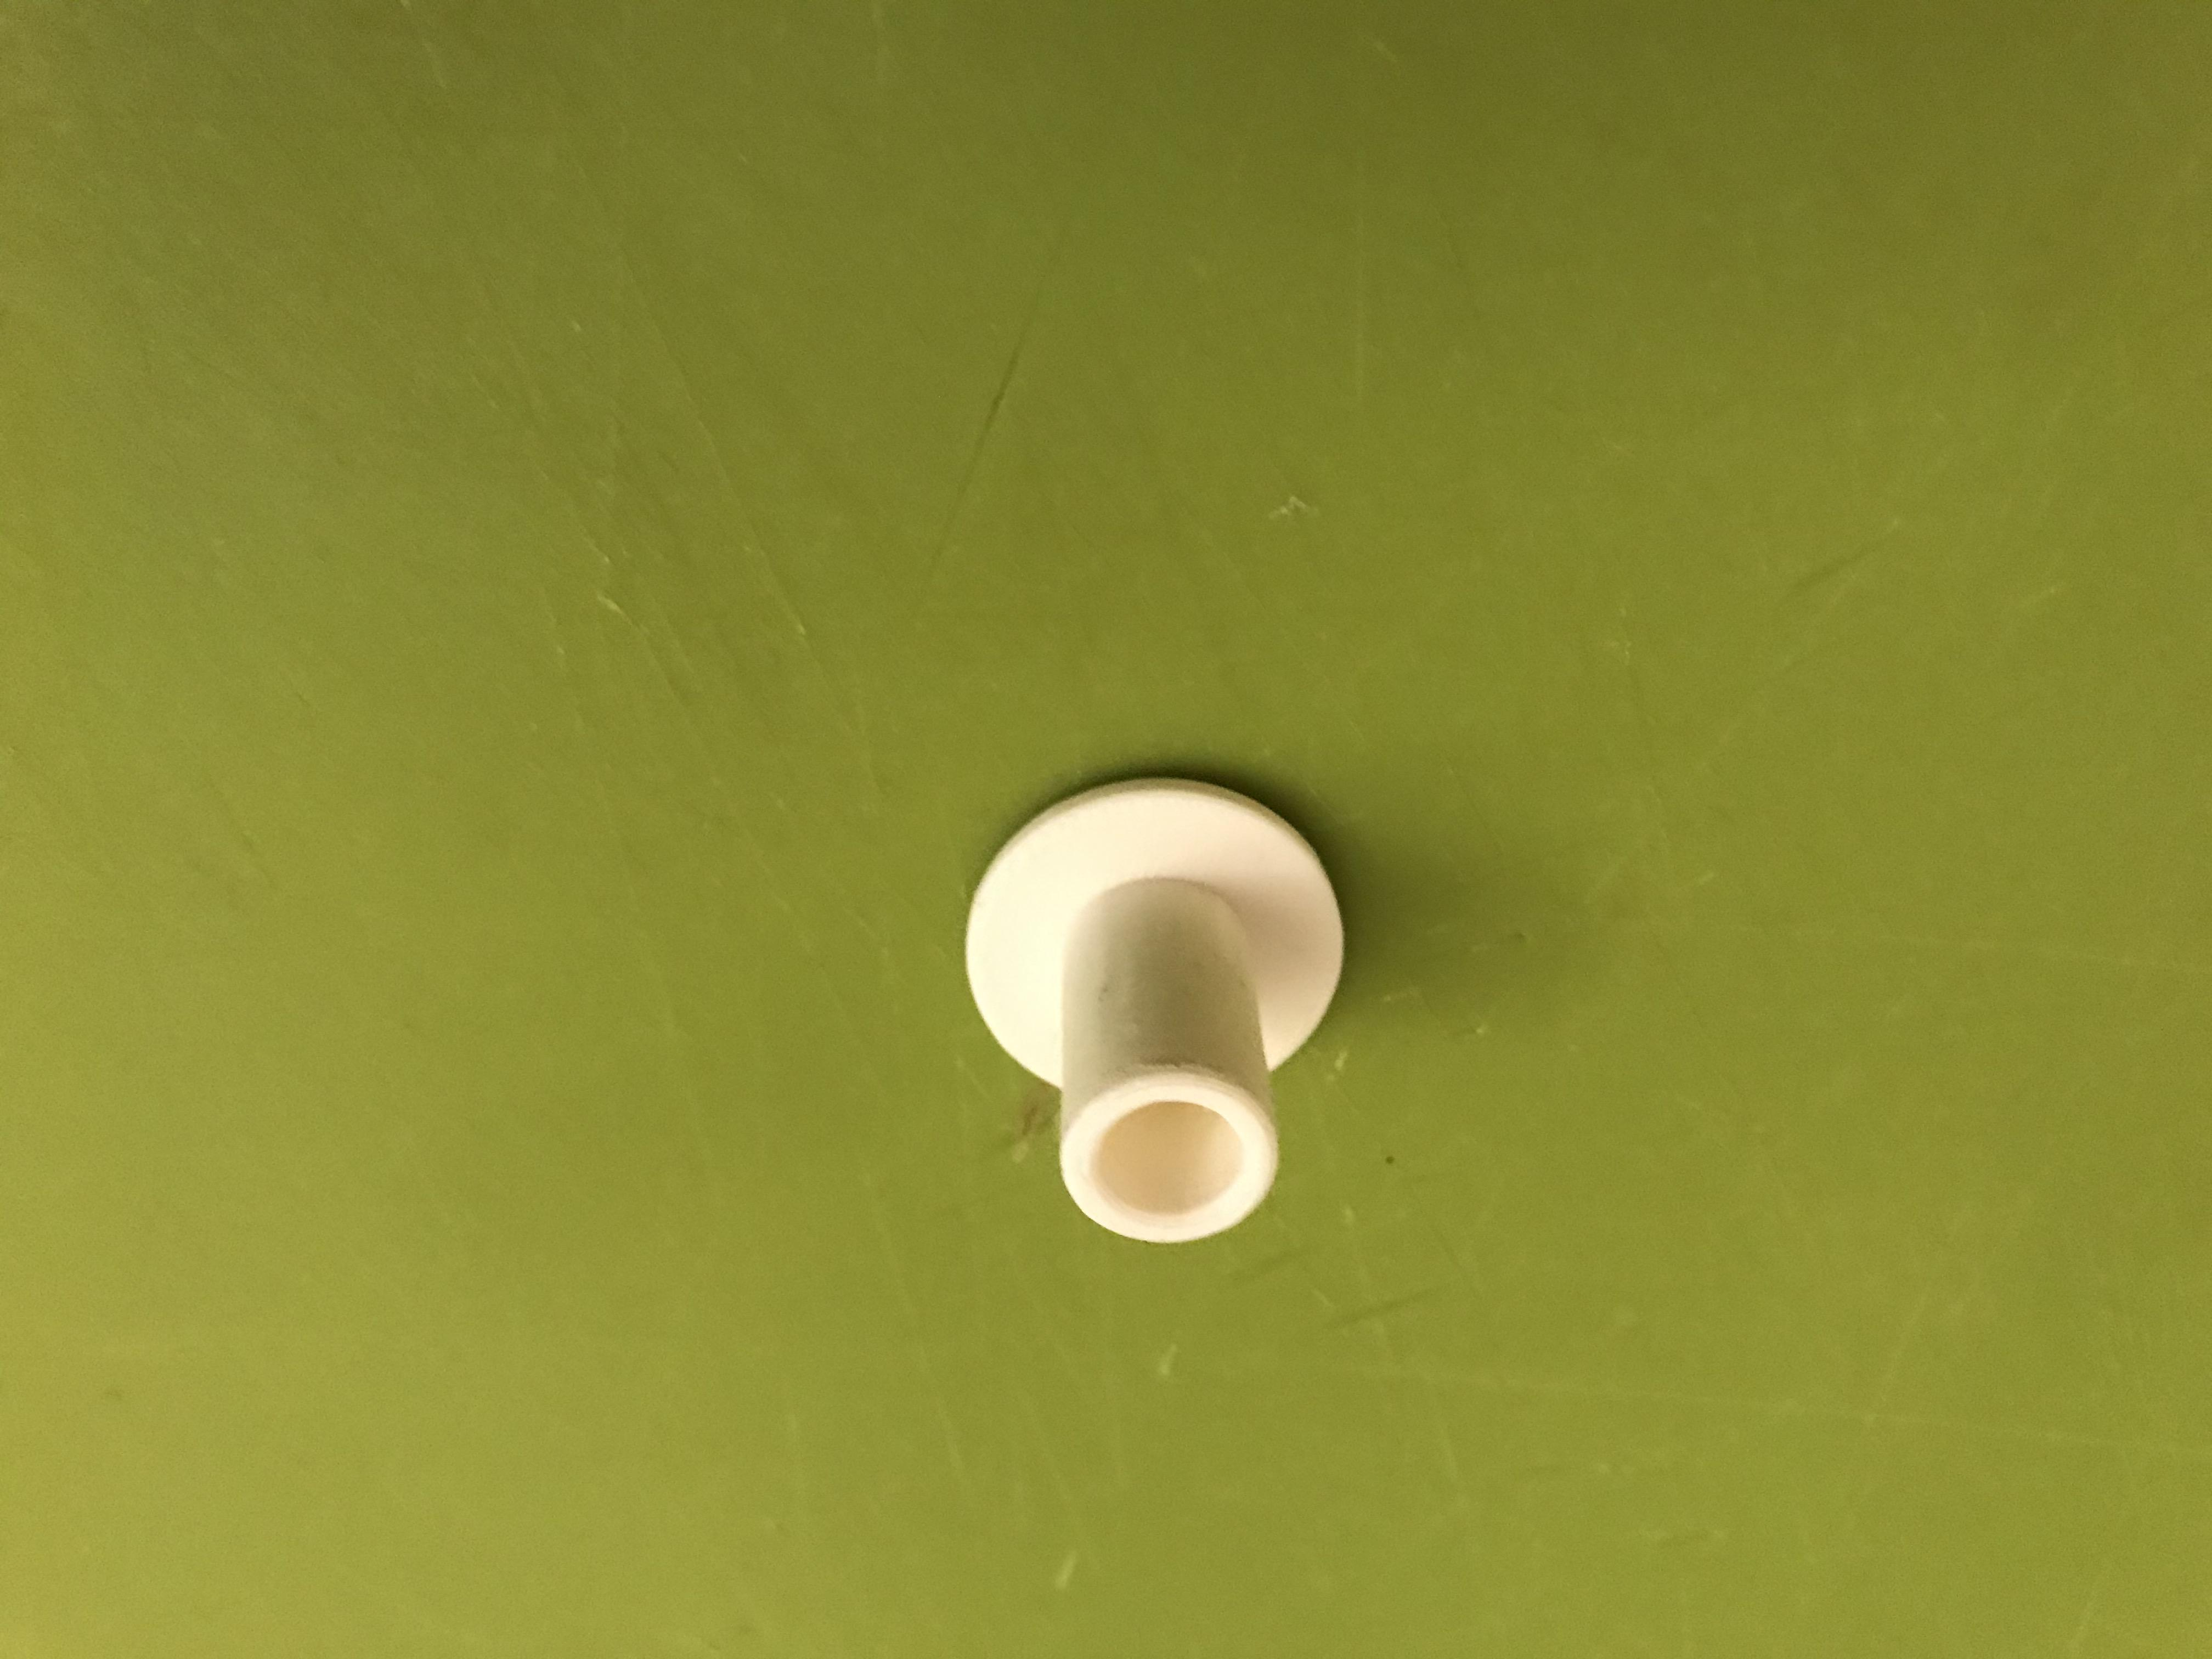White Cone: (949, 770, 1362, 1258)
